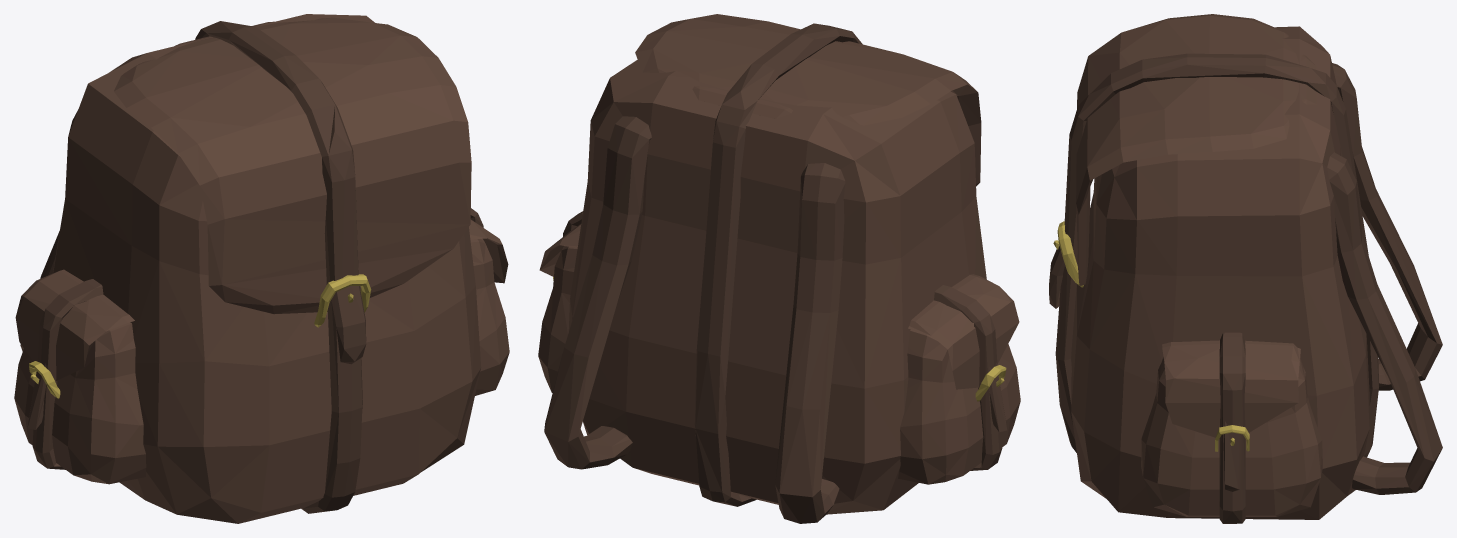
The model's file is backpack-DmkH0kyH.glb.
3 renders of one model, left to right at view 1: azimuth 30°, elevation 25°; view 2: azimuth 150°, elevation 25°; view 3: azimuth 270°, elevation 25°, orthographic. The views are drawn at different scales.
Parts seen in each view (by area): view 1: Backpack; view 2: Backpack; view 3: Backpack.
Part boxes in pixels (left/top/right/bottom): Backpack: left=14, top=14, right=509, bottom=523; Backpack: left=538, top=14, right=1020, bottom=523; Backpack: left=1049, top=14, right=1442, bottom=523.
Bounding box in the file's own units: 1.06 × 0.9457 × 0.7996.
